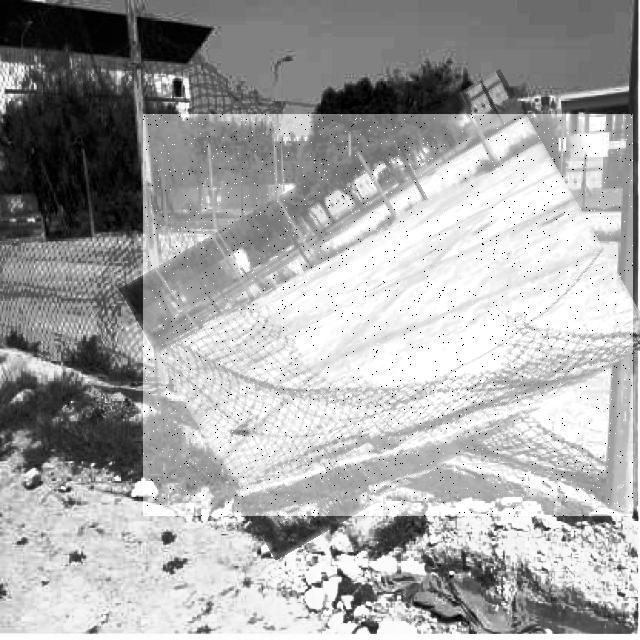anomaly-fence: (143, 114, 633, 516)
